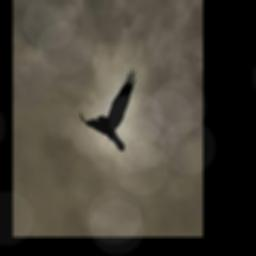Crow: (80, 68, 135, 151)
